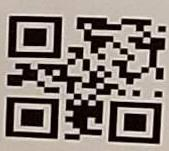qrcode: (6, 17, 168, 146)
